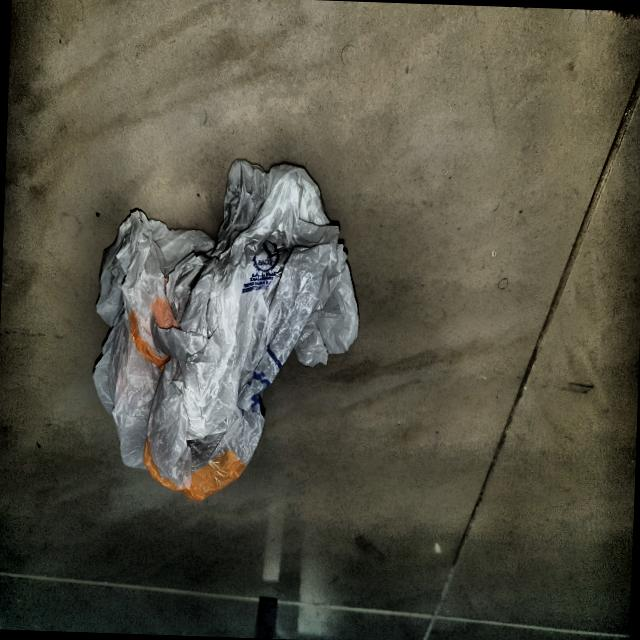plastic bag: (64, 139, 369, 516)
